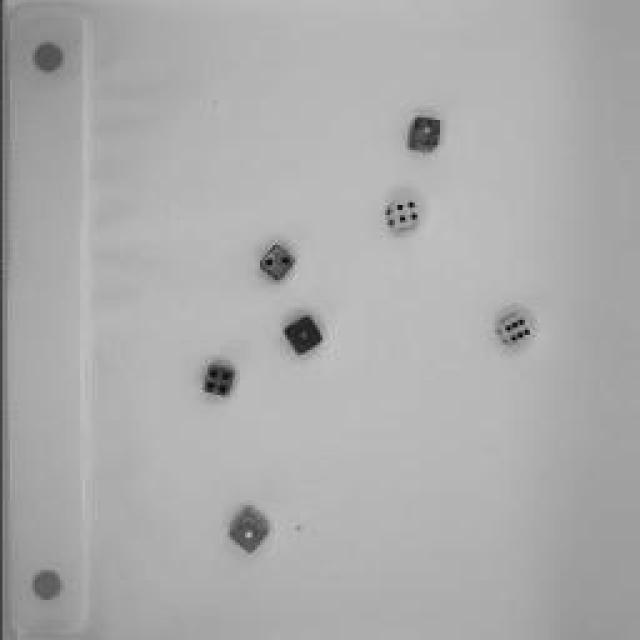dice_1: (222, 504, 272, 561), (281, 314, 329, 356), (405, 114, 445, 156)
dice_2: (257, 242, 295, 282)
dice_4: (380, 196, 425, 234), (201, 361, 239, 399)
dice_6: (492, 308, 538, 352)
